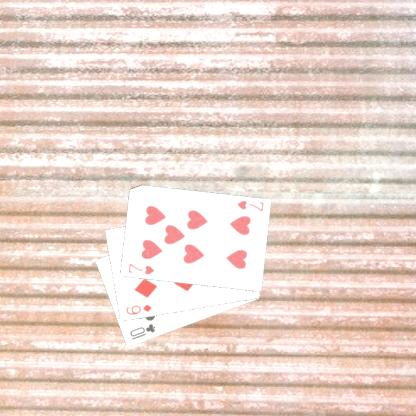10C: (127, 321, 157, 341)
6D: (122, 302, 154, 316)
7H: (125, 260, 156, 277), (233, 197, 264, 213)
